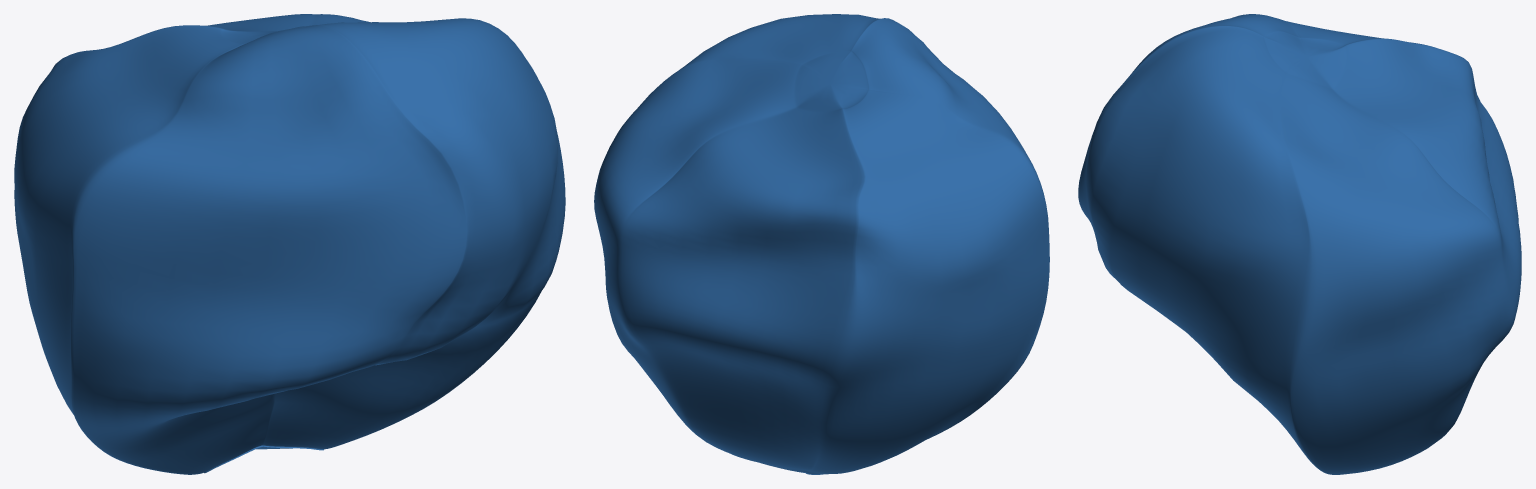
File: bean3.fbx
The picture shows the model from 3 angles, left to right: view 1: azimuth 30°, elevation 25°; view 2: azimuth 150°, elevation 25°; view 3: azimuth 270°, elevation 25°; orthographic projection. The views are drawn at different scales.
Visible parts, largest first — view 1: Sphere; view 2: Sphere; view 3: Sphere.
Boxes of the visible parts, bbox=[...] form: Sphere: bbox=[14, 14, 565, 474]; Sphere: bbox=[594, 14, 1049, 474]; Sphere: bbox=[1078, 14, 1521, 474].
Size of the model in its own units: 180 by 162 by 158.
